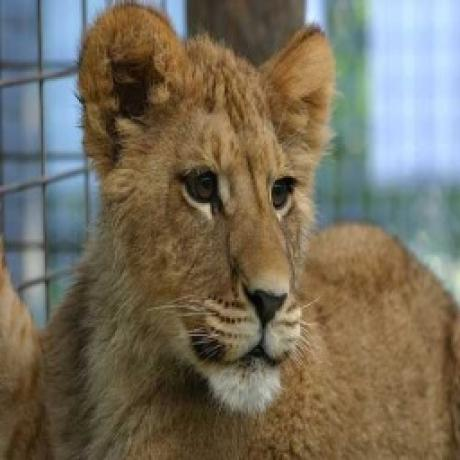Lion: (34, 3, 460, 460)
